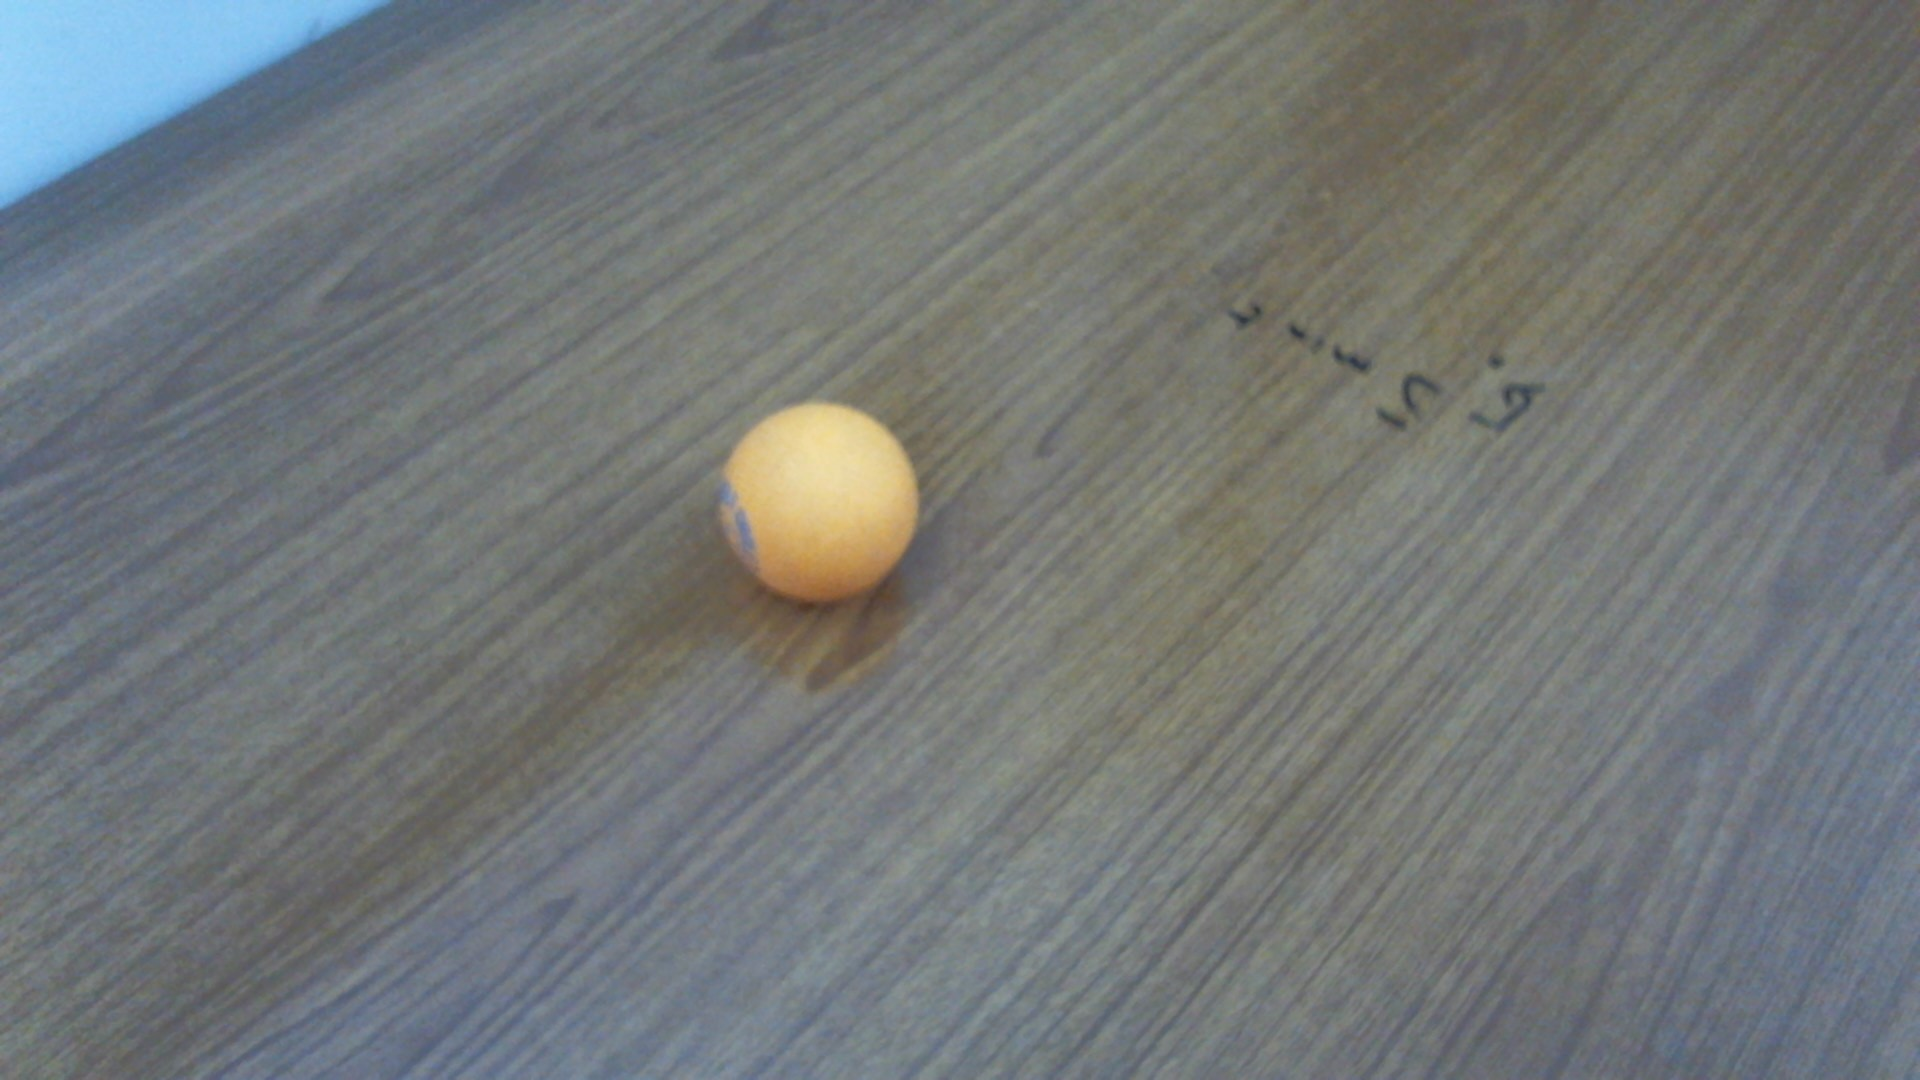ball: (713, 402, 927, 612)
